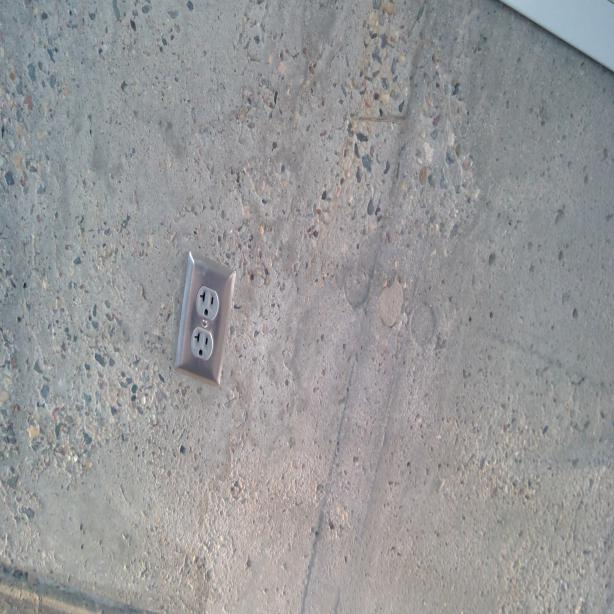typeb: (192, 286, 221, 320), (190, 325, 214, 364)
